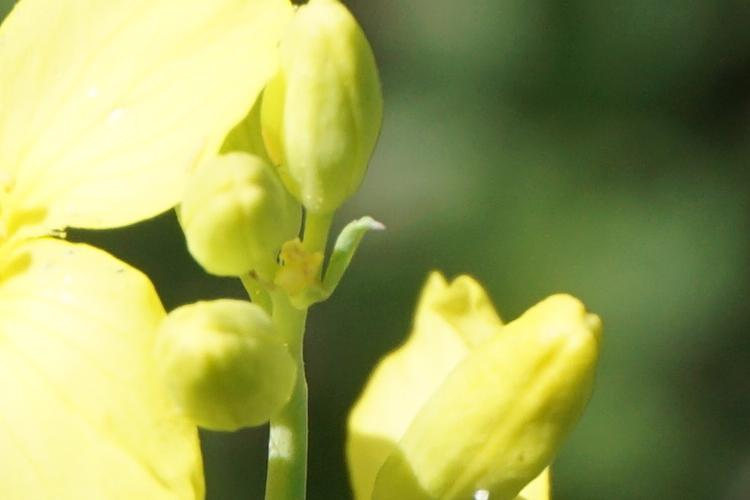bud: (367, 274, 604, 498), (266, 10, 390, 224), (158, 292, 299, 436), (184, 157, 309, 276)
yellow: (3, 2, 264, 492)
